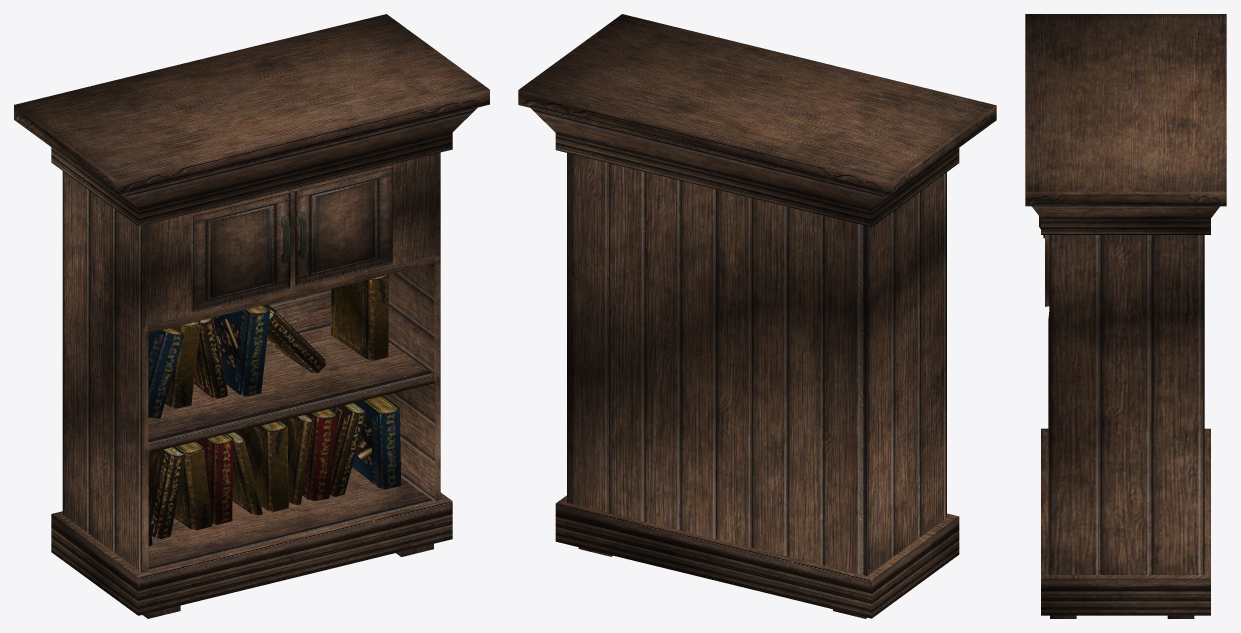
The model's file is GS_VOB_BOOKCASE_ORANGE_02_2_KOZA.glb.
3 renders of one model, left to right at view 1: azimuth 30°, elevation 25°; view 2: azimuth 150°, elevation 25°; view 3: azimuth 270°, elevation 25°, orthographic. The views are drawn at different scales.
Visible parts, largest first — view 1: Mesh; view 2: Mesh; view 3: Mesh.
Boxes of the visible parts, box(x1,y1,x2,y2) form: Mesh: box(14, 14, 489, 618); Mesh: box(518, 14, 996, 618); Mesh: box(1025, 14, 1226, 618).
Bounding box in the file's own units: 1.41 × 1.66 × 0.6779.
5 materials, 5 textured.
